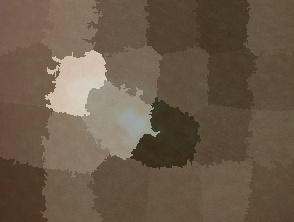vitiligo: (9, 12, 227, 204)
